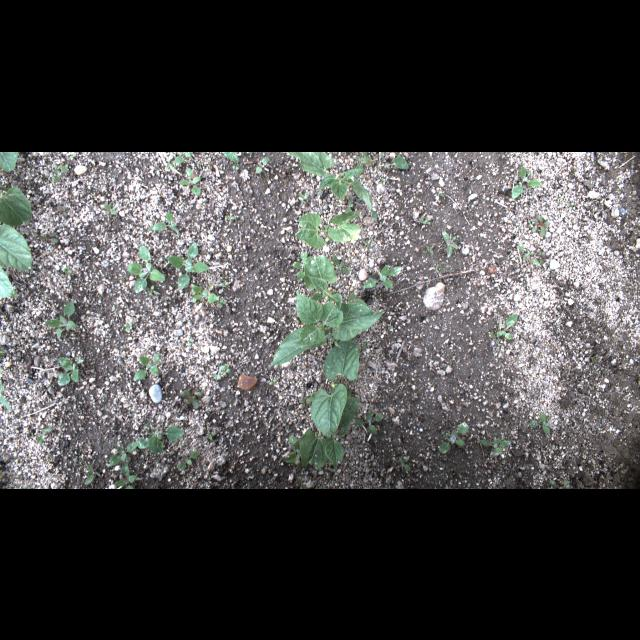crop: (281, 343, 361, 472), (270, 296, 386, 366), (288, 152, 376, 216), (1, 185, 36, 299), (293, 210, 363, 250), (304, 256, 344, 306), (1, 152, 19, 170)
weed: (166, 241, 214, 291), (126, 243, 168, 295), (136, 427, 187, 458), (108, 443, 140, 487), (44, 300, 78, 338), (438, 422, 472, 456), (362, 264, 406, 290), (51, 357, 83, 391), (510, 164, 542, 198), (176, 164, 204, 200), (438, 226, 464, 264), (148, 207, 180, 237), (131, 353, 161, 383), (487, 313, 518, 341), (480, 435, 514, 459), (190, 284, 230, 304), (359, 406, 387, 434), (518, 245, 552, 268), (173, 448, 201, 474), (180, 388, 206, 414), (532, 212, 554, 236), (208, 362, 232, 382), (382, 152, 412, 168), (294, 250, 310, 280), (530, 412, 550, 434), (82, 462, 100, 486), (334, 254, 354, 274), (52, 162, 70, 184), (1, 381, 13, 414), (168, 151, 192, 167), (100, 198, 120, 216), (35, 426, 53, 446), (36, 230, 59, 243), (256, 155, 272, 173), (56, 202, 70, 222), (416, 210, 432, 226), (220, 152, 240, 164), (398, 455, 412, 471), (59, 264, 73, 278), (122, 320, 134, 332), (426, 242, 436, 254), (222, 275, 230, 289), (186, 336, 196, 346), (224, 213, 238, 220)
